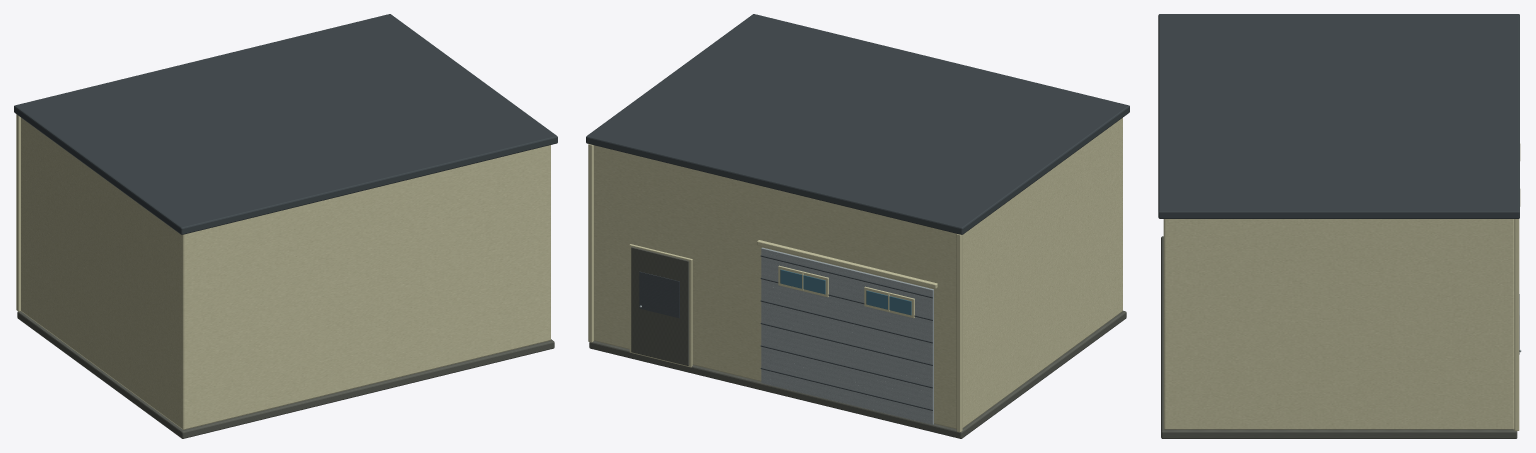
Rendered from Garage.gltf.
The picture shows the model from 3 angles, left to right: view 1: azimuth 30°, elevation 25°; view 2: azimuth 150°, elevation 25°; view 3: azimuth 270°, elevation 25°; orthographic projection. The views are drawn at different scales.
Visible parts, largest first — view 1: Garage__Body; view 2: Garage__Body; view 3: Garage__Body.
Boxes of the visible parts, x1=… form: Garage__Body: x1=14, y1=14, x2=557, y2=438; Garage__Body: x1=586, y1=14, x2=1129, y2=438; Garage__Body: x1=1158, y1=14, x2=1521, y2=438.
Bounding box in the file's own units: 7.36 × 3.98 × 5.71.
3 materials, 1 textured.
